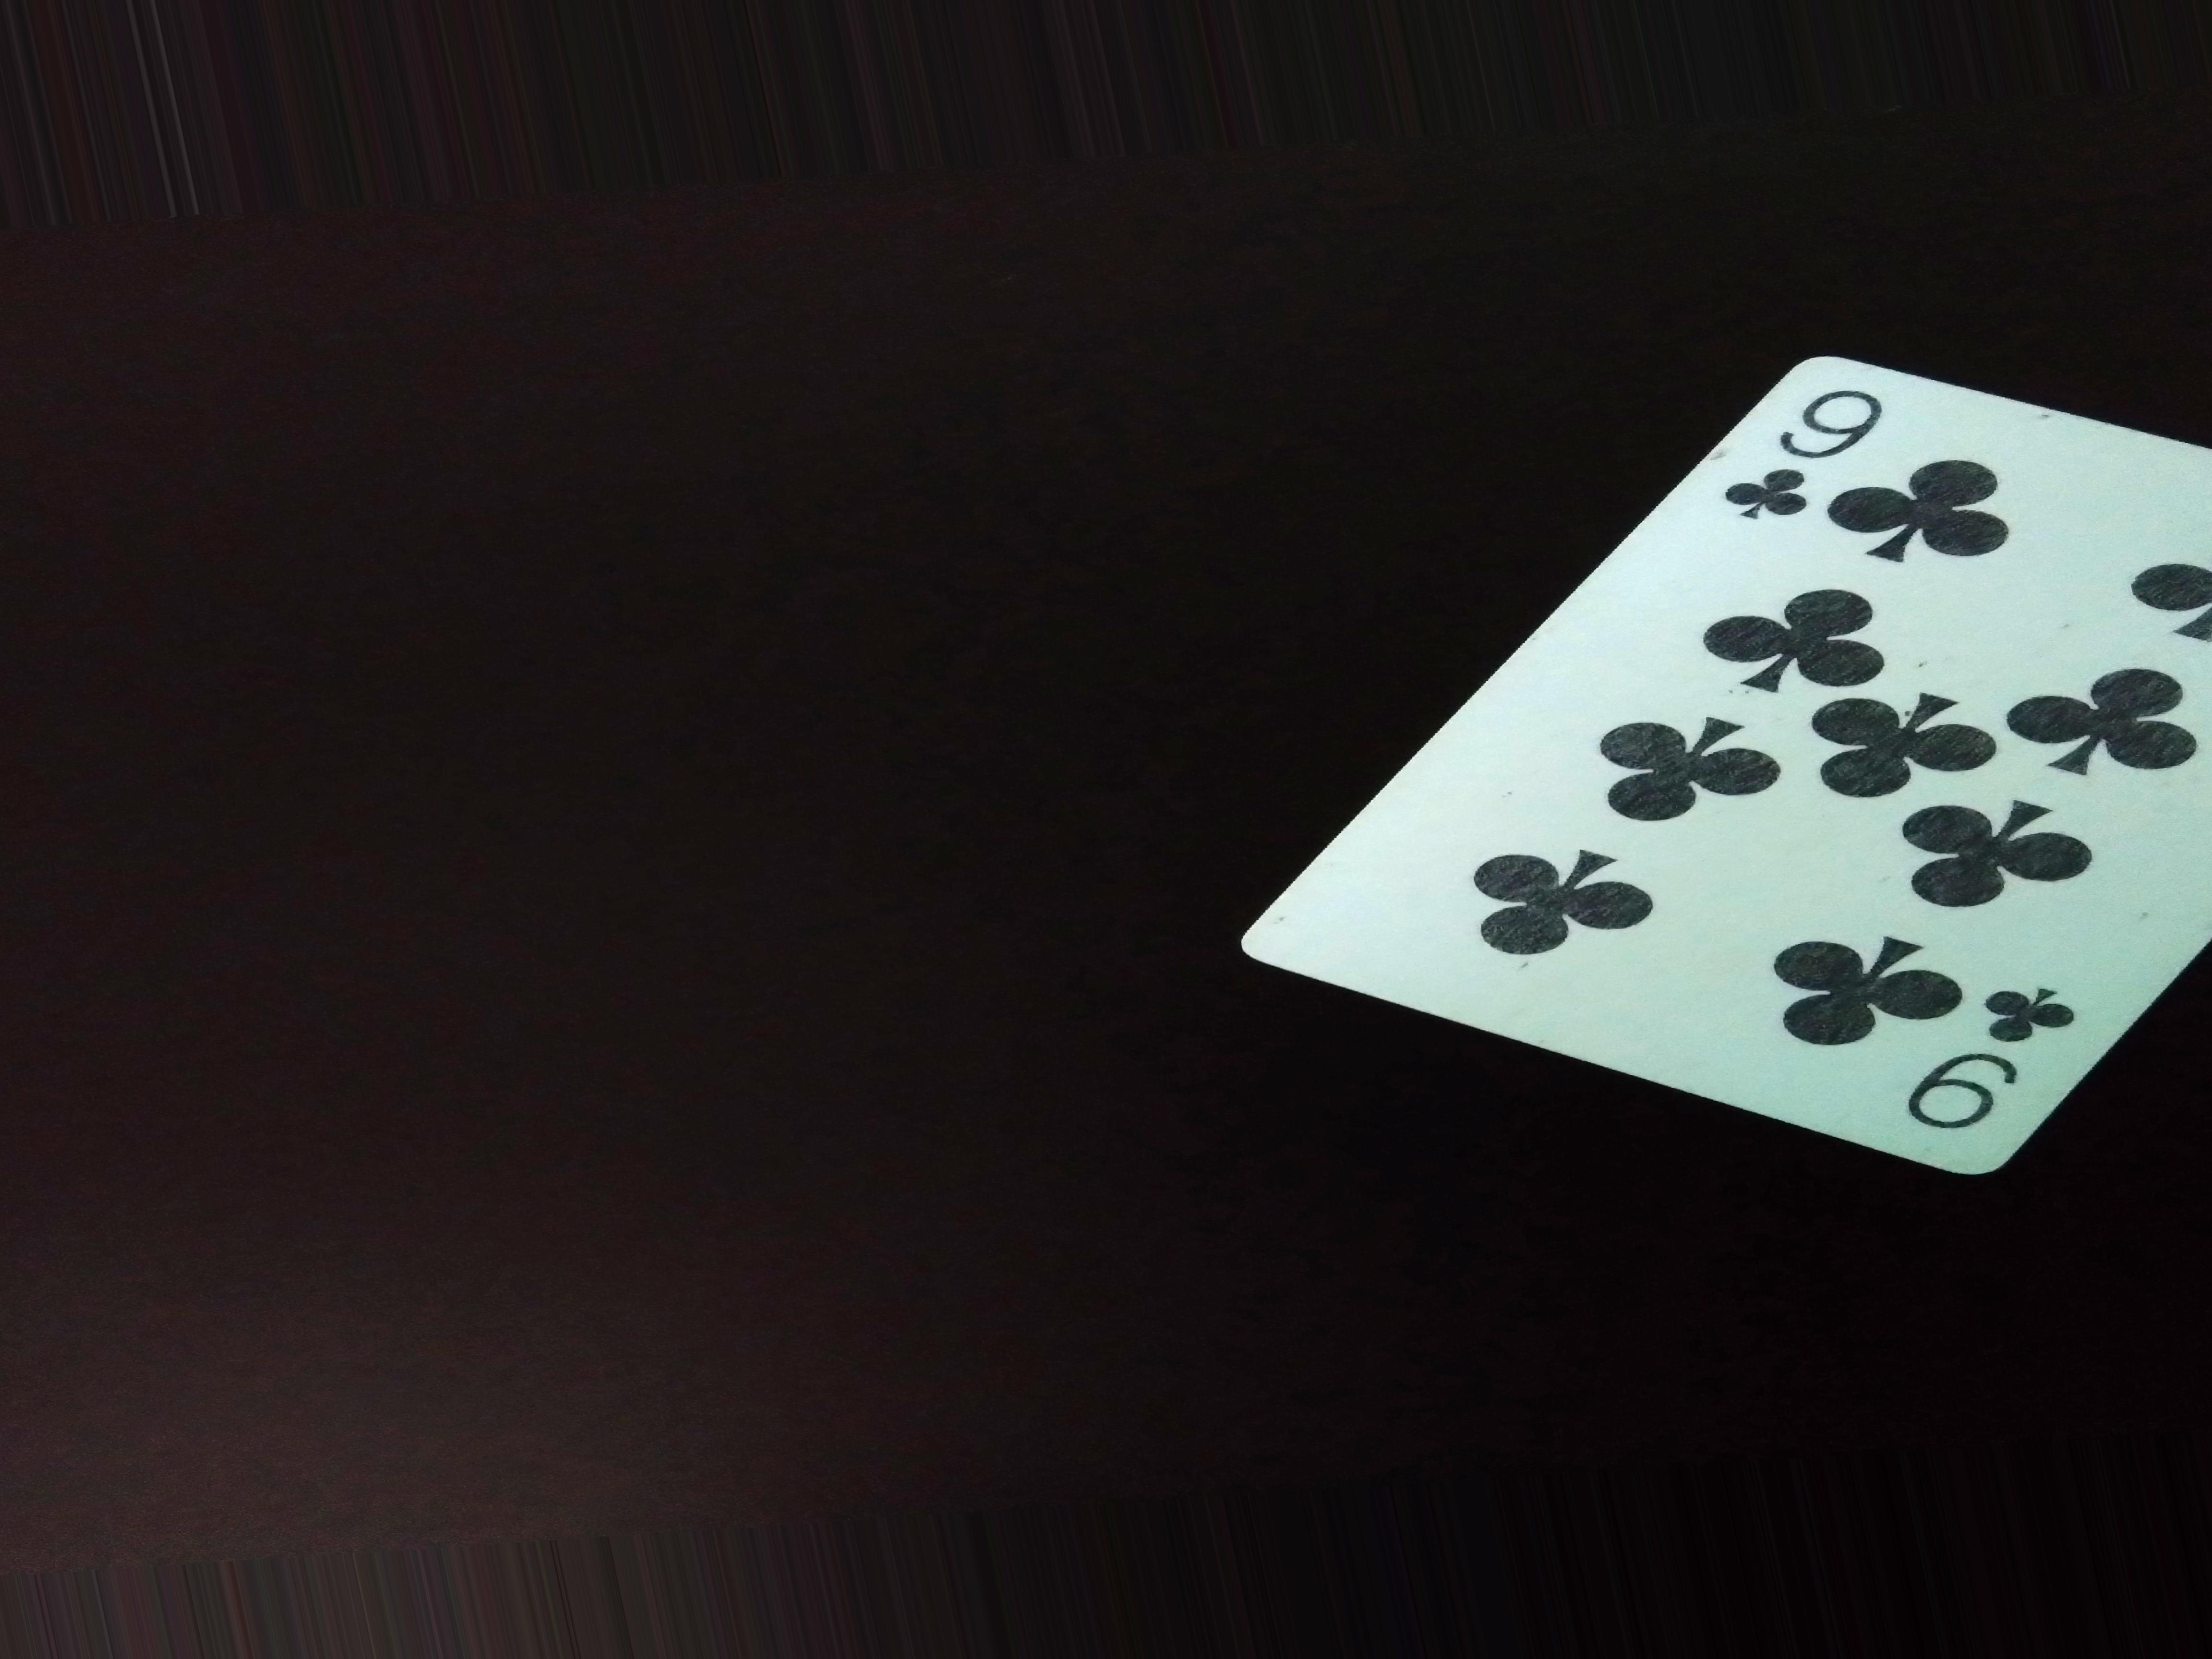9C: (1709, 371, 1902, 540)
